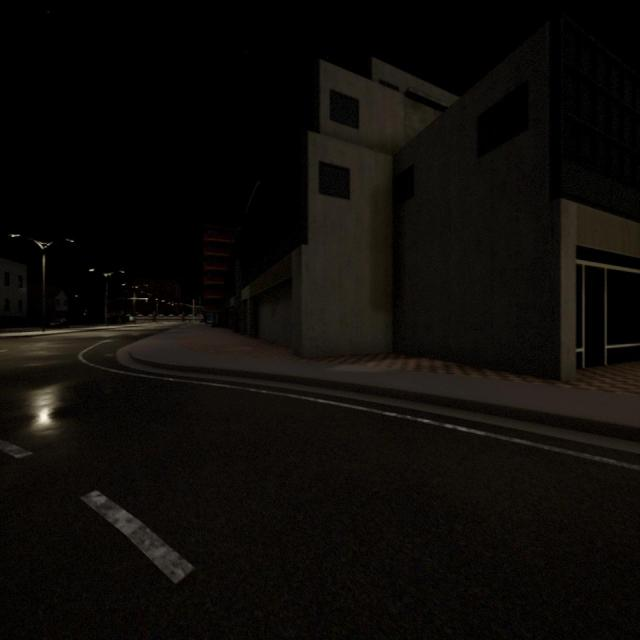Vehicle: (51, 318, 66, 328), (124, 314, 134, 322)
traffic_light: (180, 303, 182, 305)
